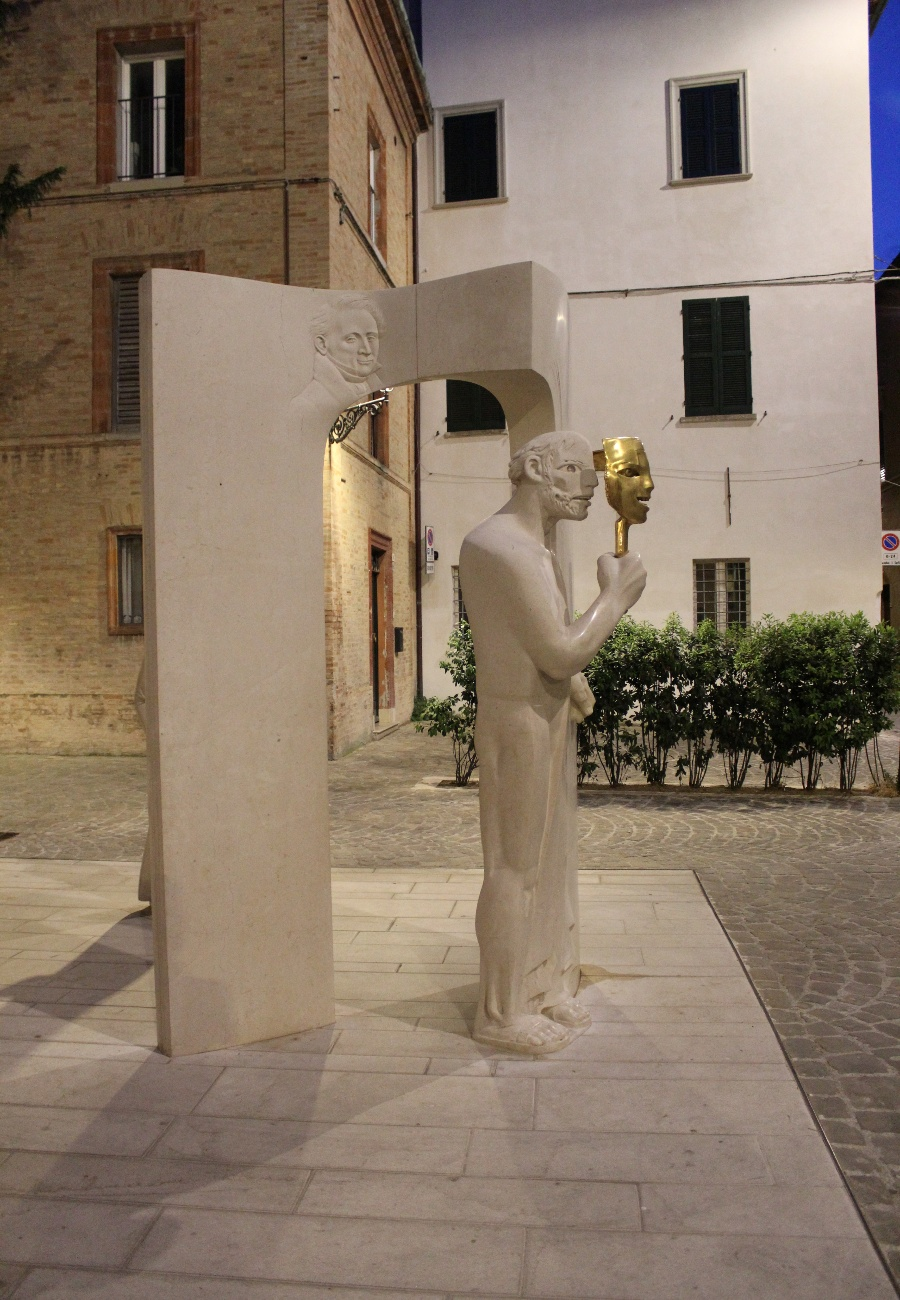Scultura della Memoria: (458, 432, 657, 1057)
